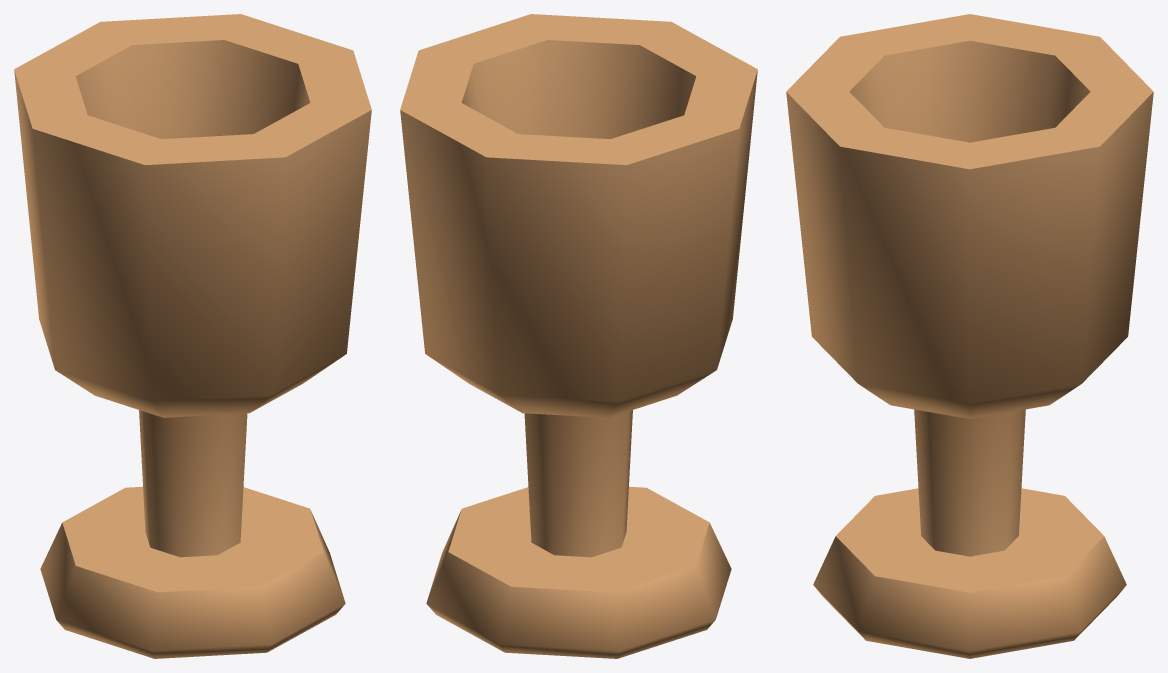
The model's file is detail-chalice_lev2.glb.
3 renders of one model, left to right at view 1: azimuth 30°, elevation 25°; view 2: azimuth 150°, elevation 25°; view 3: azimuth 270°, elevation 25°, orthographic.
Parts seen in each view (by area): view 1: detail-chalice_lev2; view 2: detail-chalice_lev2; view 3: detail-chalice_lev2.
Part boxes in pixels (left/top/right/bottom): detail-chalice_lev2: left=14, top=14, right=371, bottom=658; detail-chalice_lev2: left=400, top=14, right=757, bottom=658; detail-chalice_lev2: left=786, top=14, right=1153, bottom=658.
Bounding box in the file's own units: 0.1642 × 0.249 × 0.1642.
Materials: 1 (1 with a texture image).
